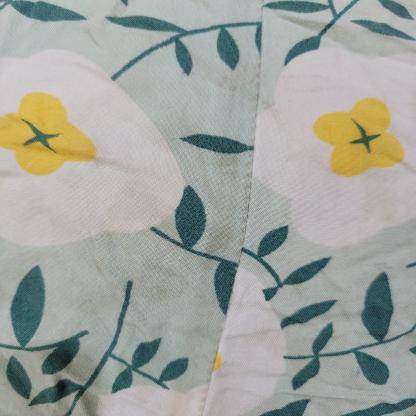spot: (218, 150, 245, 226), (209, 228, 237, 257), (221, 80, 240, 119)
